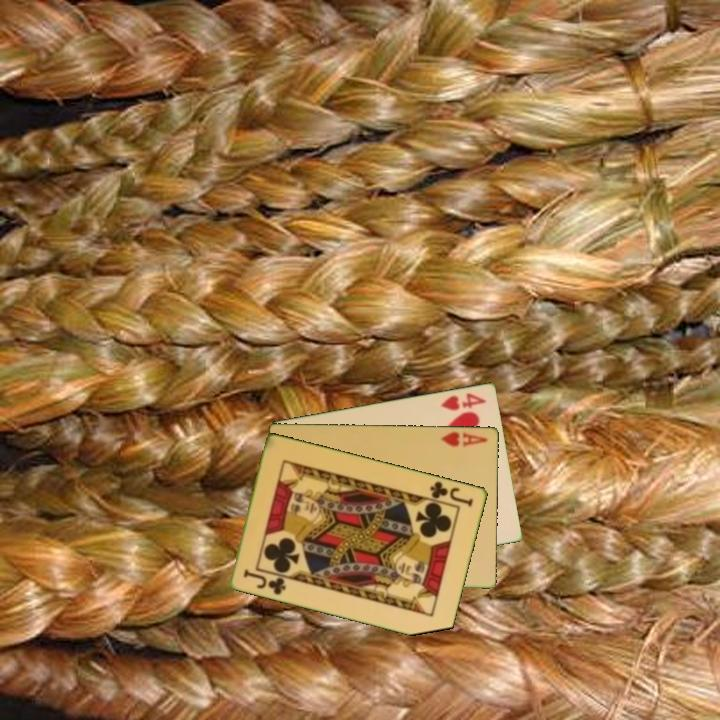4h: (438, 389, 489, 413)
Ah: (438, 428, 490, 449)
Jc: (427, 477, 476, 509), (240, 565, 289, 597)
